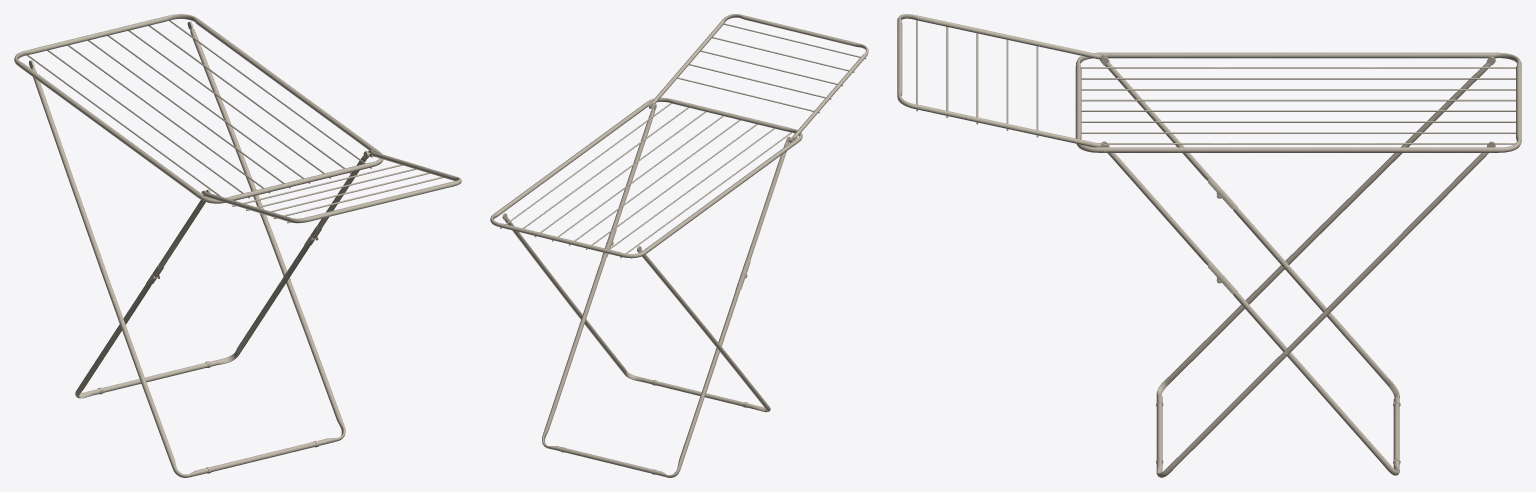
The model's file is Stand_clothes 1.fbx.
The picture shows the model from 3 angles, left to right: view 1: azimuth 30°, elevation 25°; view 2: azimuth 150°, elevation 25°; view 3: azimuth 270°, elevation 25°; orthographic projection. The views are drawn at different scales.
Visible parts, largest first — view 1: object_2; view 2: object_2; view 3: object_2.
Part boxes in pixels (left/top/right/bottom): object_2: left=14, top=14, right=461, bottom=477; object_2: left=490, top=14, right=868, bottom=477; object_2: left=897, top=14, right=1521, bottom=477.
Size of the model in its own units: 82.71 by 152 by 225.
